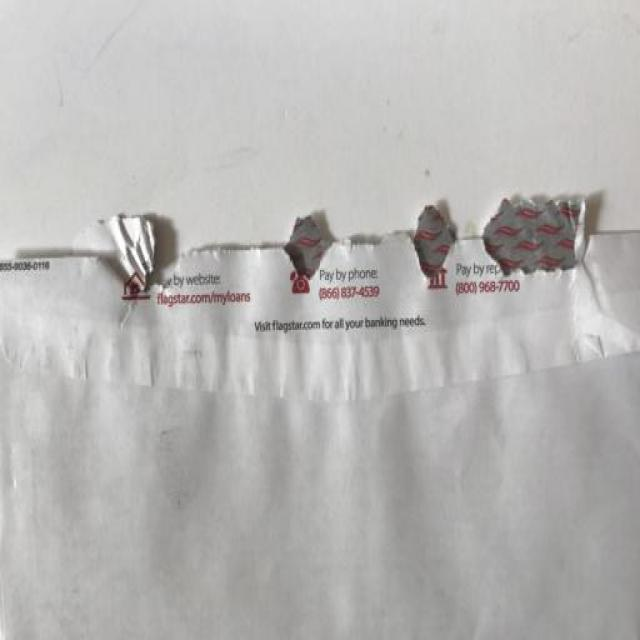paper: (1, 221, 640, 640)
